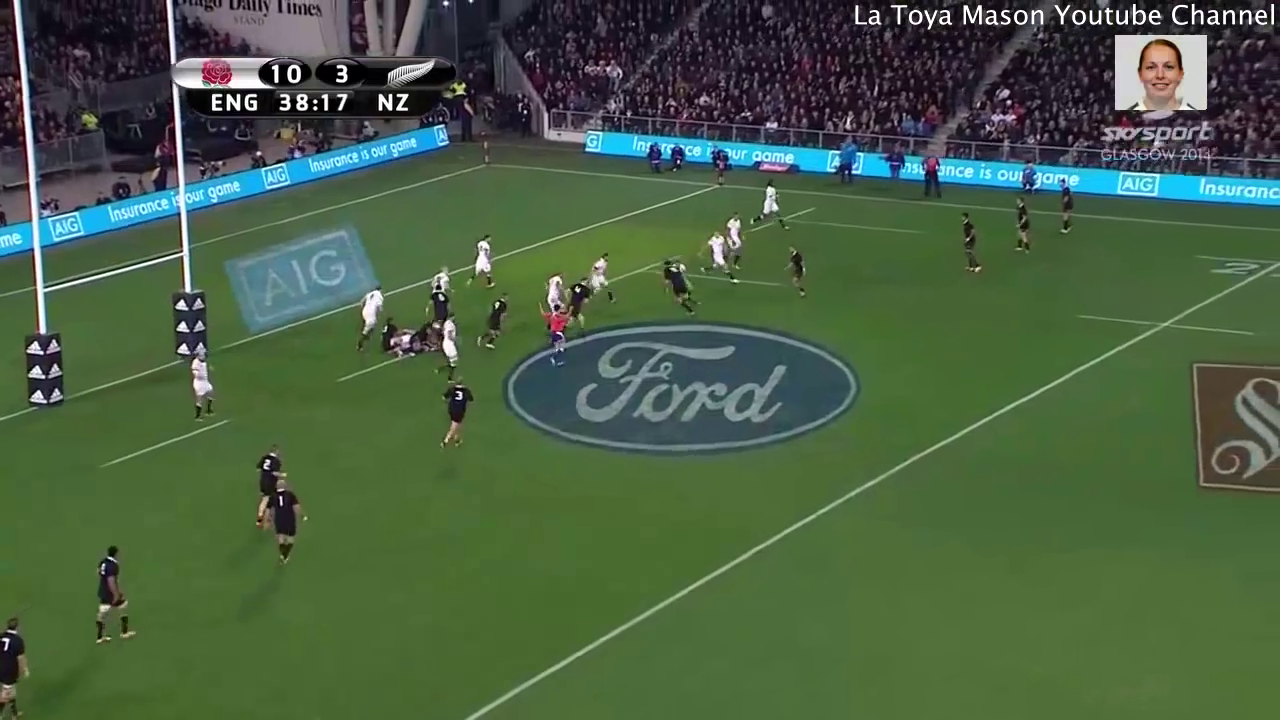player: (81, 541, 143, 654), (247, 472, 312, 568), (245, 436, 289, 536), (426, 372, 474, 458), (1, 607, 37, 720), (183, 341, 222, 428), (657, 254, 706, 319), (531, 298, 573, 369), (695, 226, 742, 289), (351, 276, 389, 349), (473, 289, 514, 352), (747, 176, 790, 233), (581, 248, 618, 310), (953, 207, 984, 281), (433, 308, 464, 377), (463, 233, 499, 292), (563, 272, 592, 341), (533, 264, 570, 317), (1009, 193, 1033, 265), (779, 243, 809, 300), (718, 213, 752, 263), (1055, 179, 1081, 237), (426, 280, 455, 329), (421, 262, 453, 302), (380, 307, 403, 350)
post: (9, 1, 213, 420)
